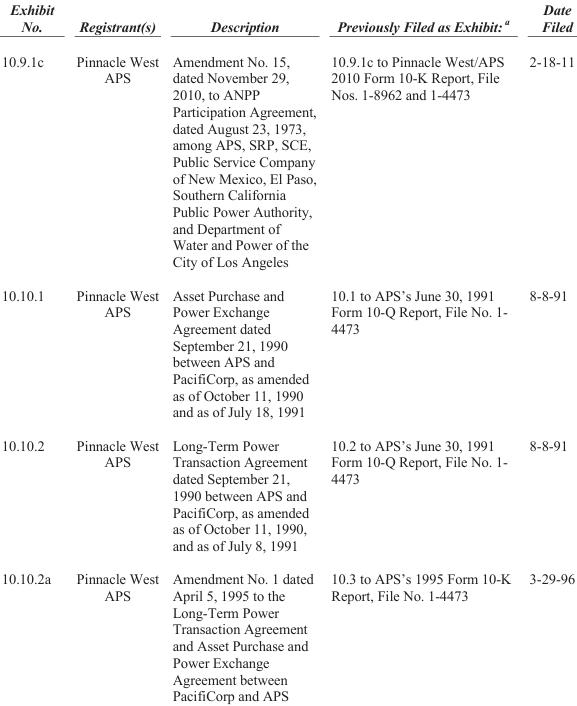table: (0, 1, 574, 703)
table column: (323, 1, 519, 703), (164, 1, 323, 703), (64, 1, 164, 703), (0, 1, 64, 703), (519, 1, 574, 703)
table column header: (0, 1, 574, 43)
table row: (0, 43, 574, 277), (0, 277, 574, 428), (0, 561, 574, 703), (0, 428, 574, 561), (0, 1, 574, 43)
